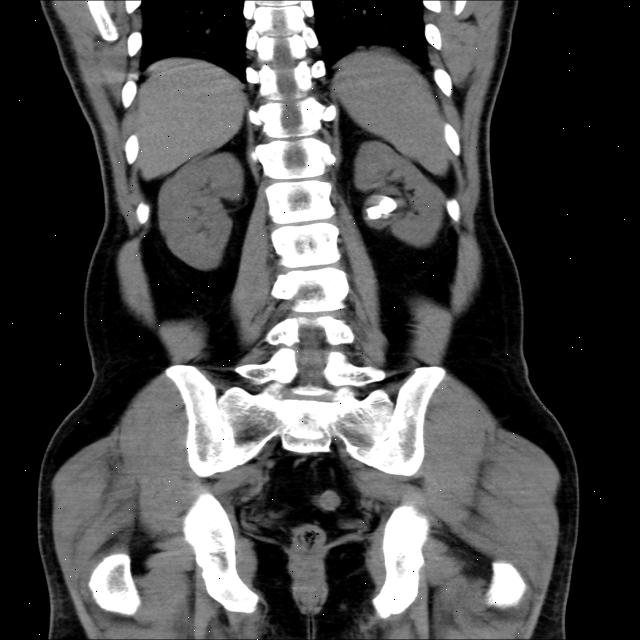kidneystone: (365, 198, 397, 219)
